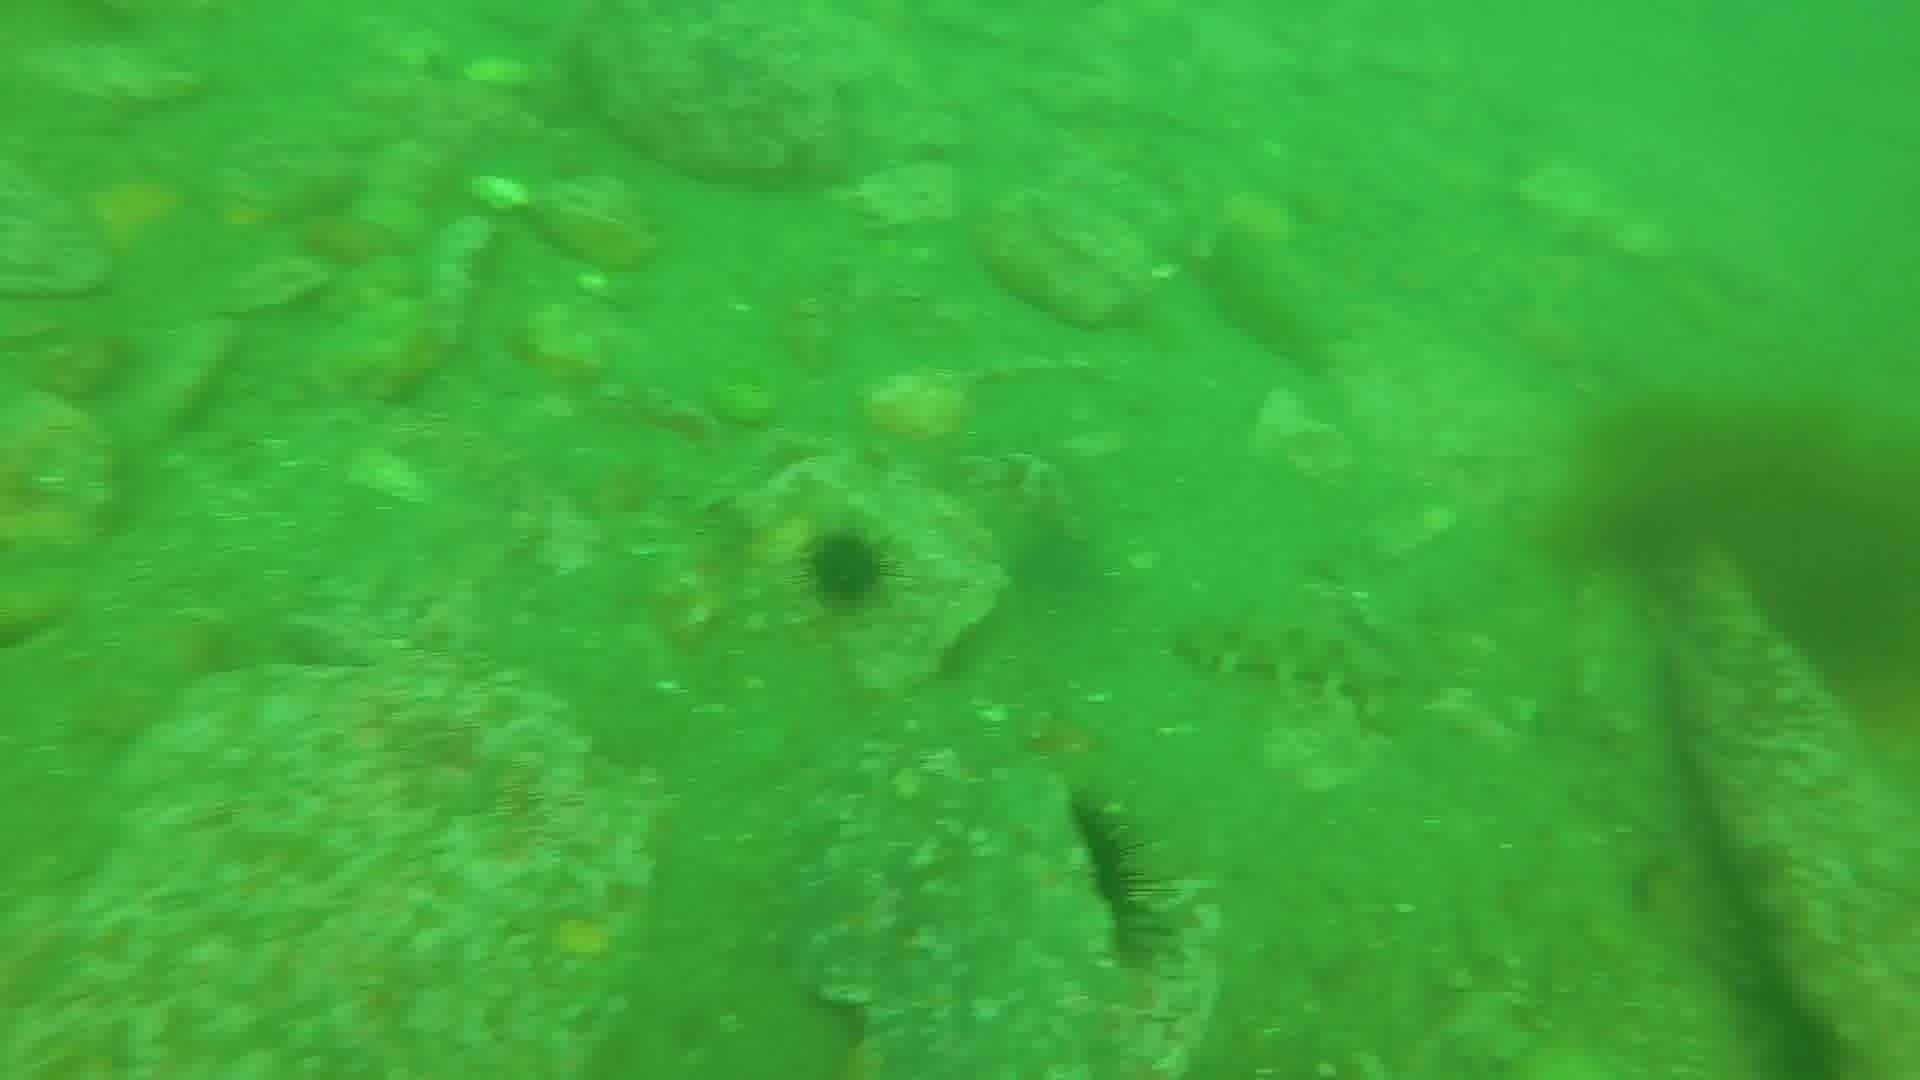echinus: (1058, 790, 1168, 971), (796, 525, 895, 615)
holothurian: (1167, 597, 1408, 709), (1197, 218, 1346, 377)
